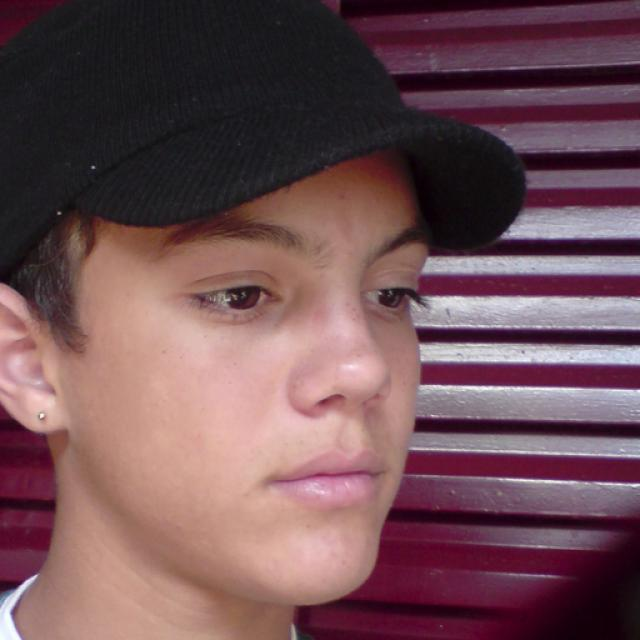neutral: (73, 138, 430, 612)
